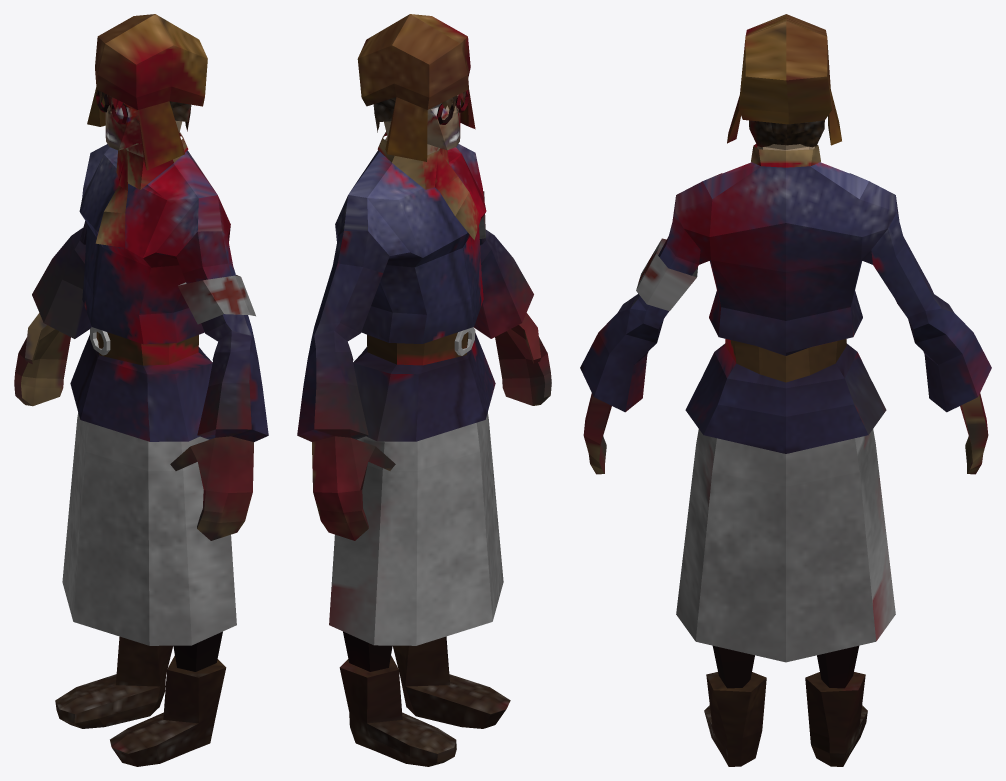
The model's file is DeadMedik.fbx.
3 renders of one model, left to right at view 1: azimuth 30°, elevation 25°; view 2: azimuth 150°, elevation 25°; view 3: azimuth 270°, elevation 25°, orthographic. The views are drawn at different scales.
Visible parts, largest first — view 1: Medik.001; view 2: Medik.001; view 3: Medik.001.
Boxes of the visible parts, x1,y1,x2,y2 form: Medik.001: (14,14,268,766); Medik.001: (297,14,551,766); Medik.001: (580,14,991,766).
Size of the model in its own units: 76.49 by 387 by 197.
Materials: 1 (1 with a texture image).
